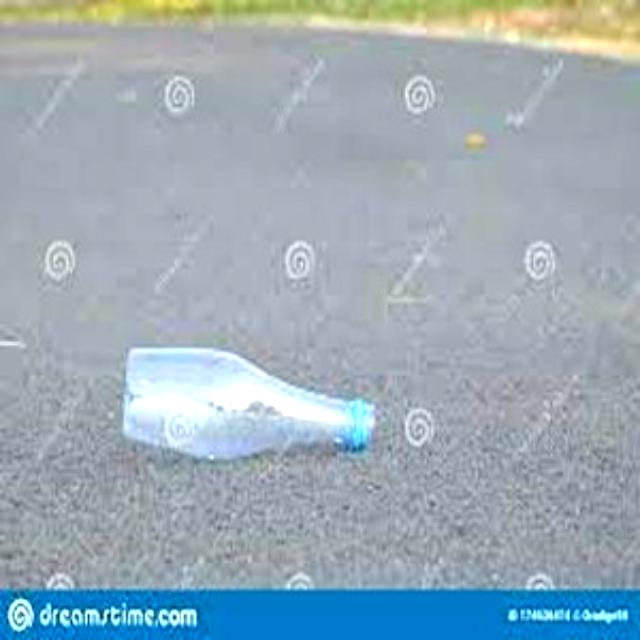Plastic: (113, 337, 375, 473)
